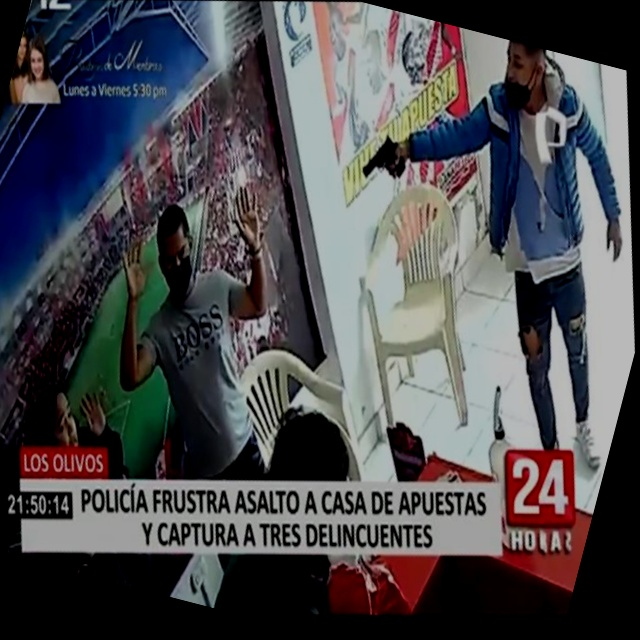gun: (323, 98, 434, 216)
